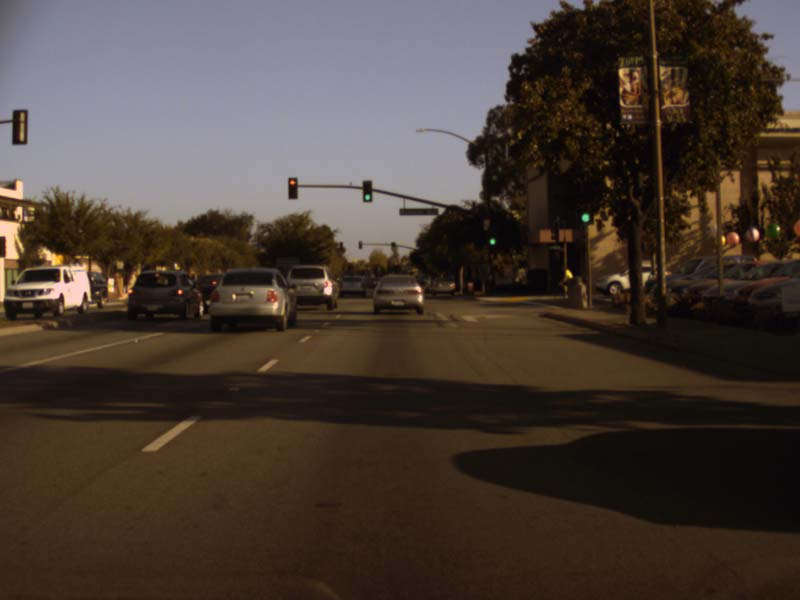Green: (579, 203, 591, 225), (487, 225, 497, 248), (362, 180, 372, 202)
Red: (288, 177, 297, 198)
